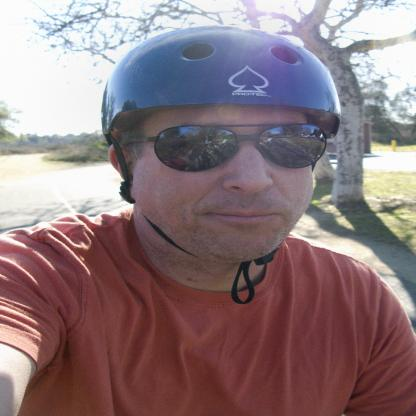Helmet: (110, 12, 336, 264)
